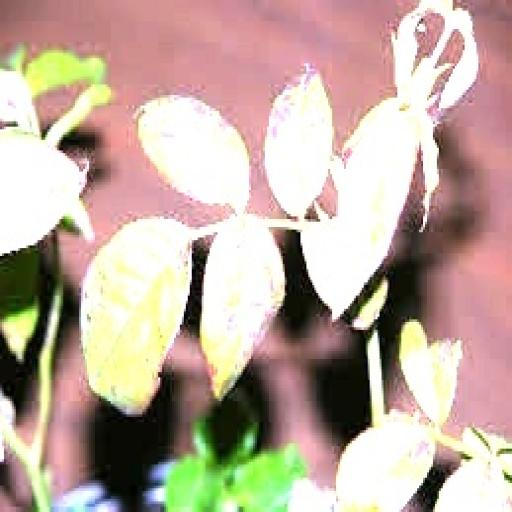downy_mildew: (301, 98, 419, 319), (82, 220, 191, 414), (200, 217, 284, 398), (139, 96, 249, 211), (0, 130, 85, 255), (265, 66, 334, 216), (337, 417, 434, 511), (400, 320, 462, 424), (0, 249, 39, 361), (24, 48, 106, 97), (435, 460, 510, 511), (0, 69, 39, 134)
